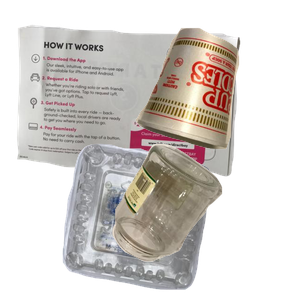glass: (110, 141, 300, 300)
paper: (14, 22, 247, 191)
plastic: (60, 141, 263, 300)
trash: (133, 25, 300, 167)
